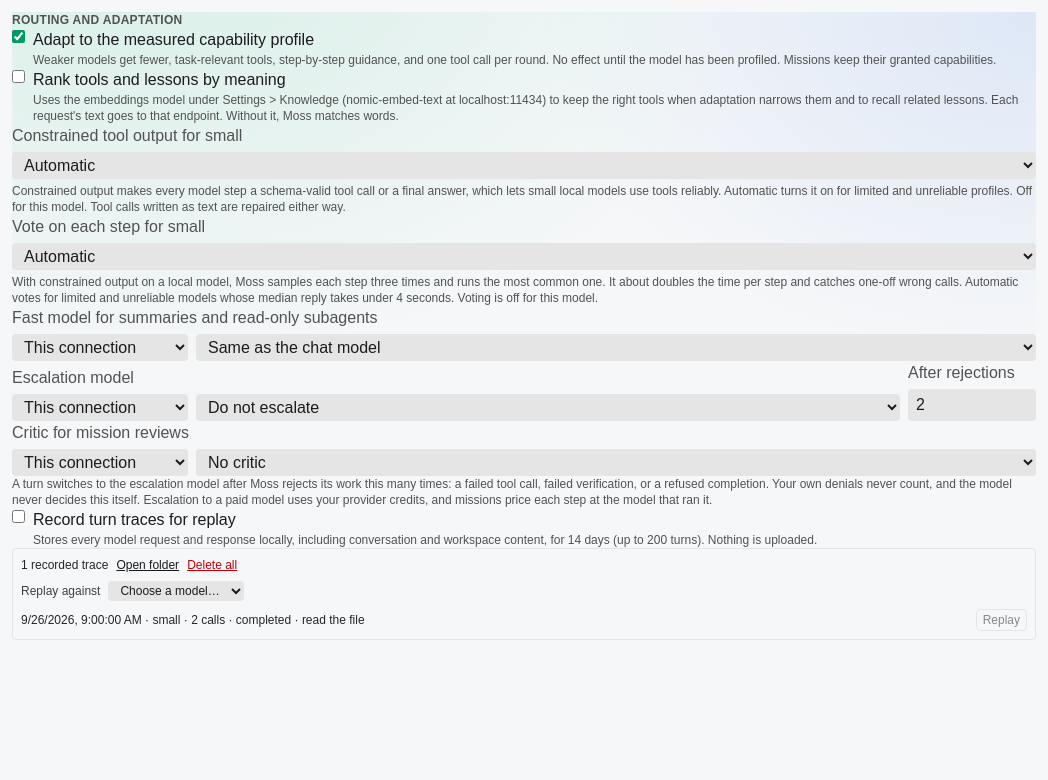
Test case: RoutingSettings › replays a recorded trace against a chosen model and shows the comparison
Expected: the text "1 recorded trace" is shown, [21,557,108,573]
Select "big" in the dropdown labelled "Replay against": coordinates (176, 591) [108,581,244,601]
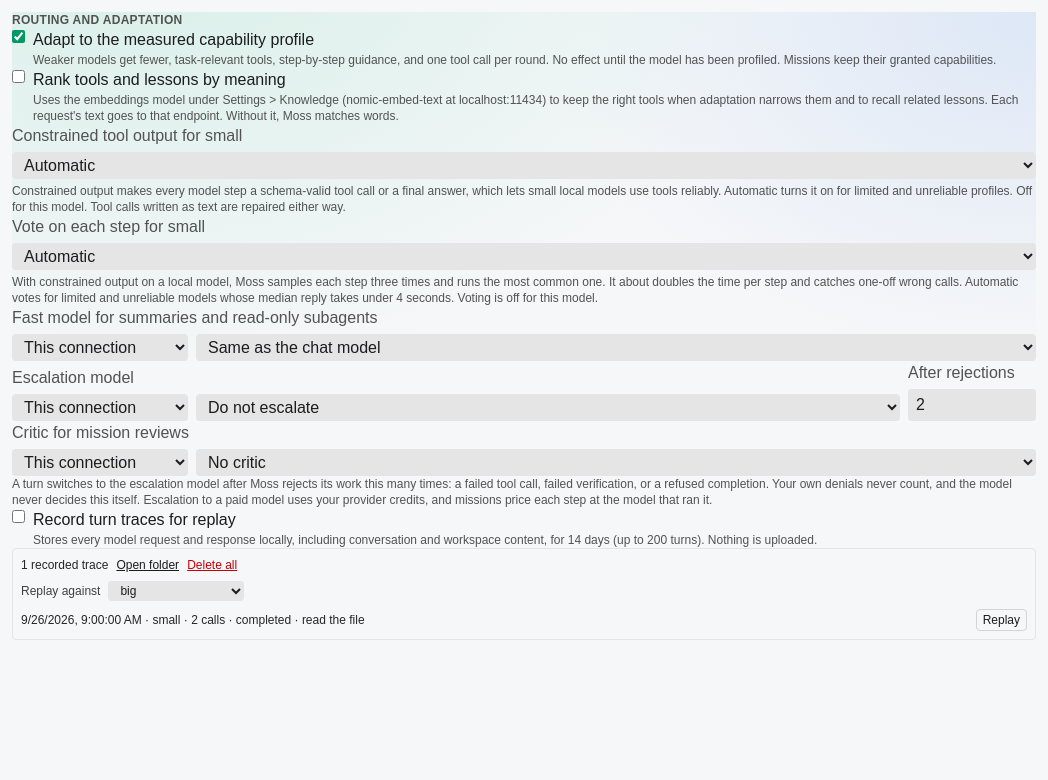
Click the button "Replay": coordinates (1001, 620) [976,609,1027,631]
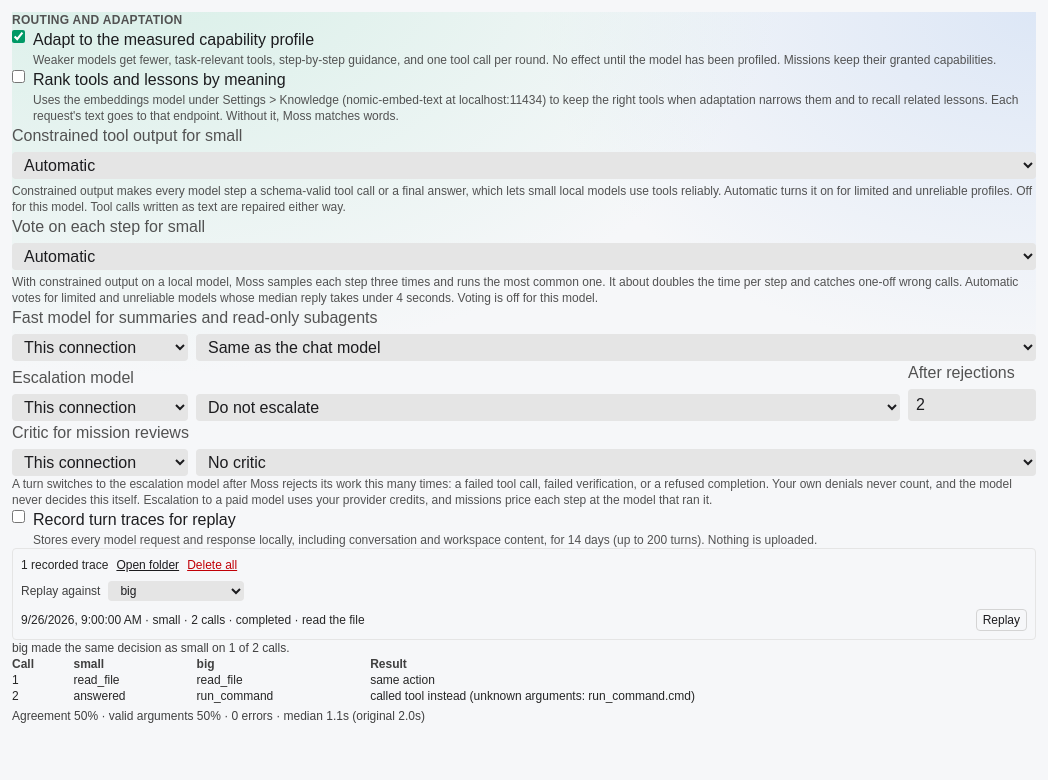
Expected: the table named "Replay results" is shown, [12,656,1036,724]
Expected: the message reads "big made the same decision as small on 1 of 2 calls.", [12,641,290,655]
Expected: the table named "Replay results" shows "unknown arguments: run_command.cmd", [466,689,695,703]
